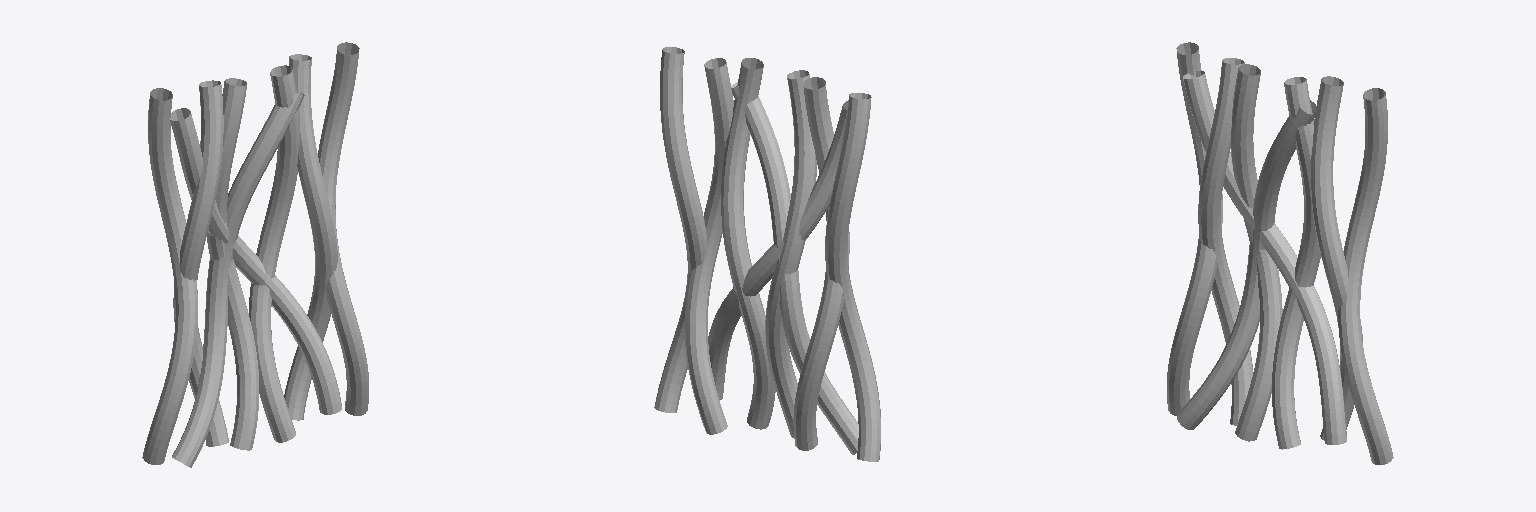
File: S_brown_up.obj
The picture shows the model from 3 angles: view 1: azimuth 30°, elevation 25°; view 2: azimuth 150°, elevation 25°; view 3: azimuth 330°, elevation 25°; orthographic projection.
Visible parts, largest first — view 1: Object003; view 2: Object003; view 3: Object003.
Part boxes in pixels (x1,y1,x2,y2): Object003: (142,42,368,467); Object003: (654,47,880,461); Object003: (1167,42,1393,464).
Bounding box in the file's own units: 25.51 × 40.66 × 6.03.